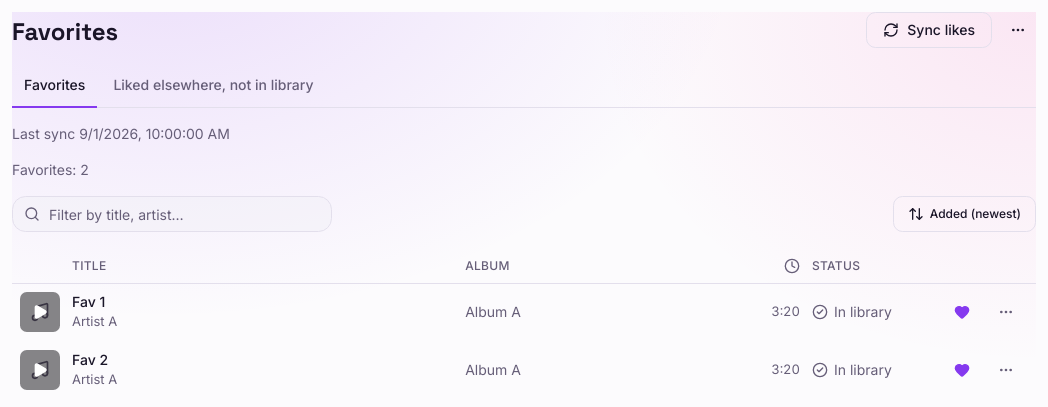
it: Favorites page › 'Liked elsewhere, not in library': the likes from the other services, no heart, with a download
Expected: the link "Fav 1" is shown, [72,293,105,310]
Click the button "Liked elsewhere, not in library" at (213, 86), box [101,64,326,108]
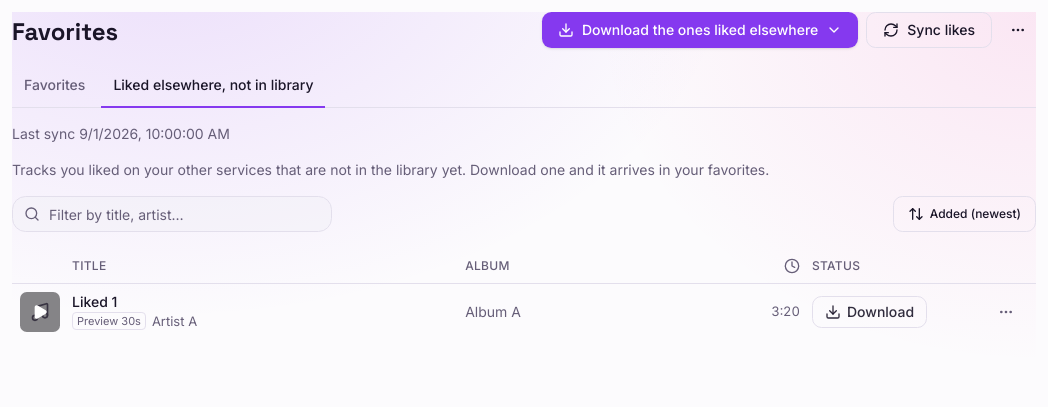
Result: the link "Liked 1" is shown at [72,293,117,310]
Click the button with aria-label "Download Liked 1 and add it to favorites" at (870, 312), box [812,296,927,328]
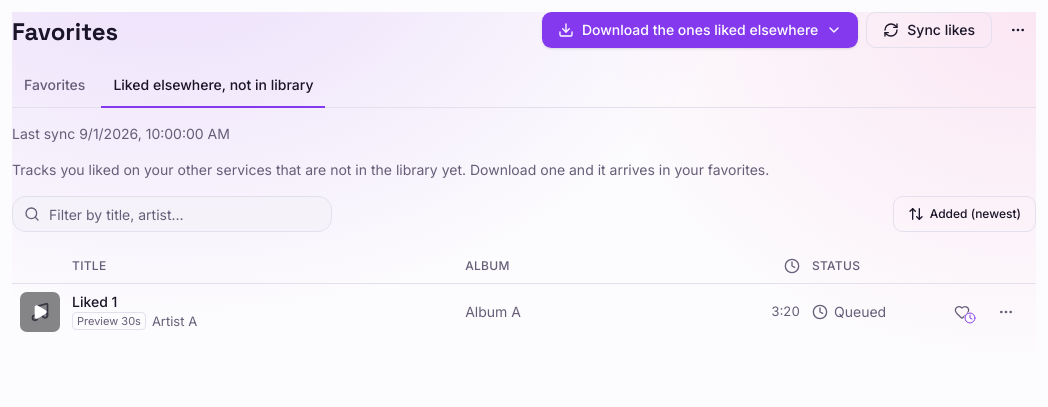
Result: the picture named "Will be added to favorites when it arrives" is shown at [954,304,976,324]
